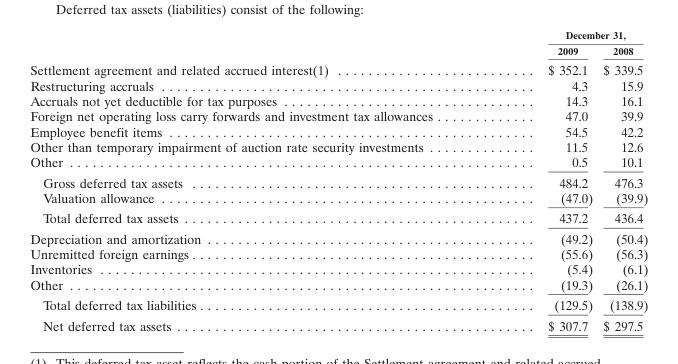table: (29, 28, 647, 332)
table column: (29, 28, 489, 332), (489, 28, 597, 332), (597, 28, 647, 332)
table column header: (29, 28, 647, 59)
table row: (29, 207, 647, 228), (29, 294, 647, 314), (29, 59, 647, 77), (29, 171, 647, 189), (29, 189, 647, 207), (29, 276, 647, 294), (29, 314, 647, 332), (29, 42, 647, 59), (29, 154, 647, 171), (29, 228, 647, 245), (29, 92, 647, 108), (29, 138, 647, 154), (29, 245, 647, 261), (29, 77, 647, 92), (29, 108, 647, 123), (29, 123, 647, 138), (29, 261, 647, 276), (29, 28, 647, 42)
table spanning cell: (489, 28, 647, 42)
